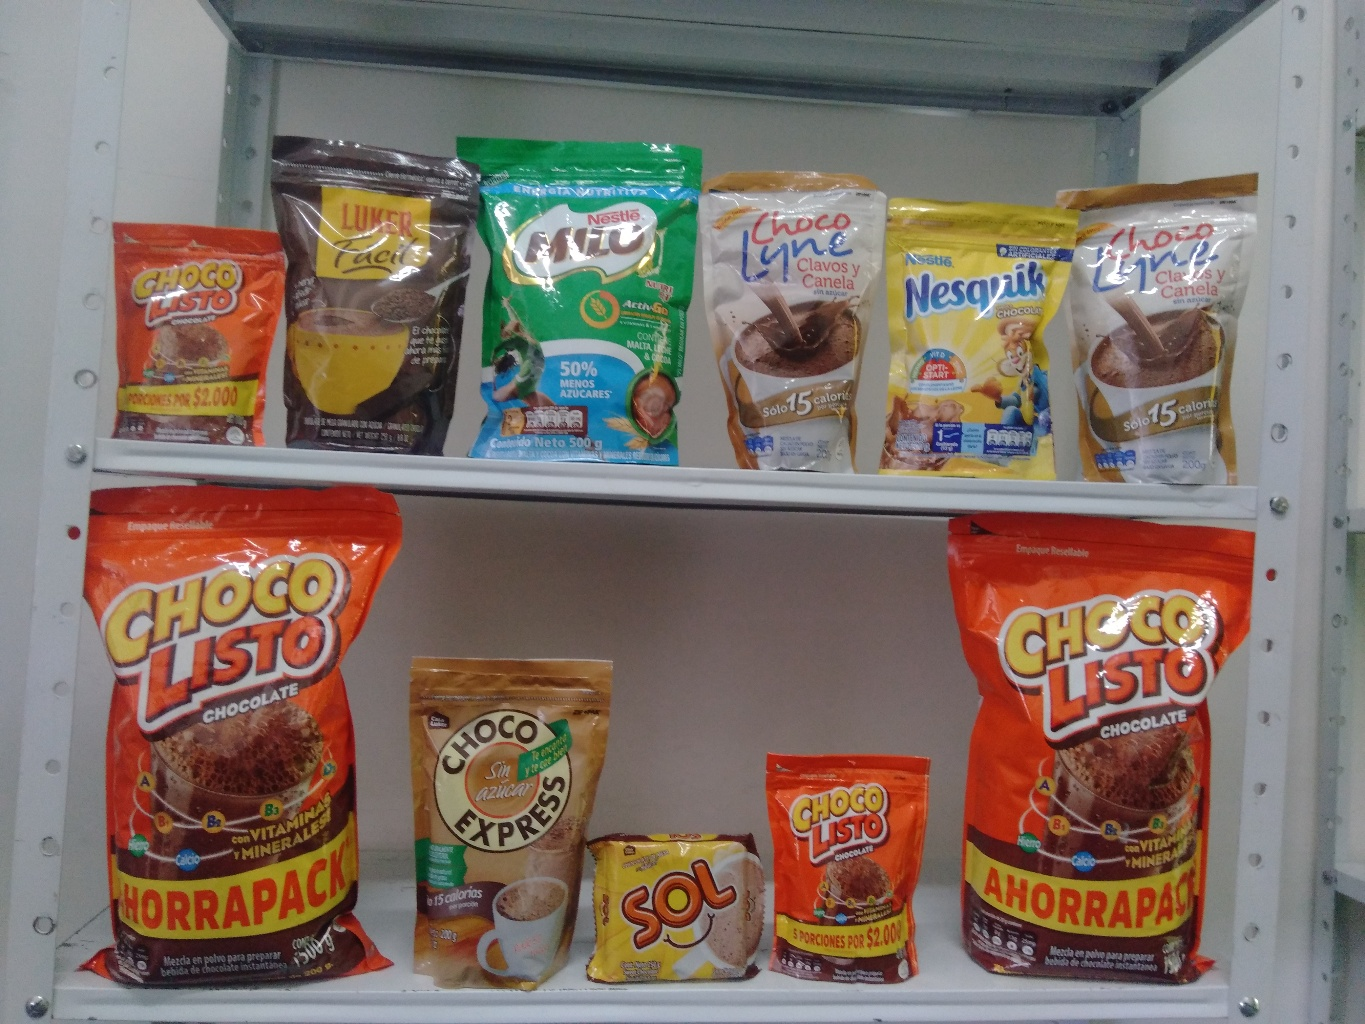COL0170103DYP1,500: (81, 475, 416, 984)
COL0170205DYP50000: (463, 137, 703, 447)
COL0170303DYP20000: (886, 191, 1084, 487)
